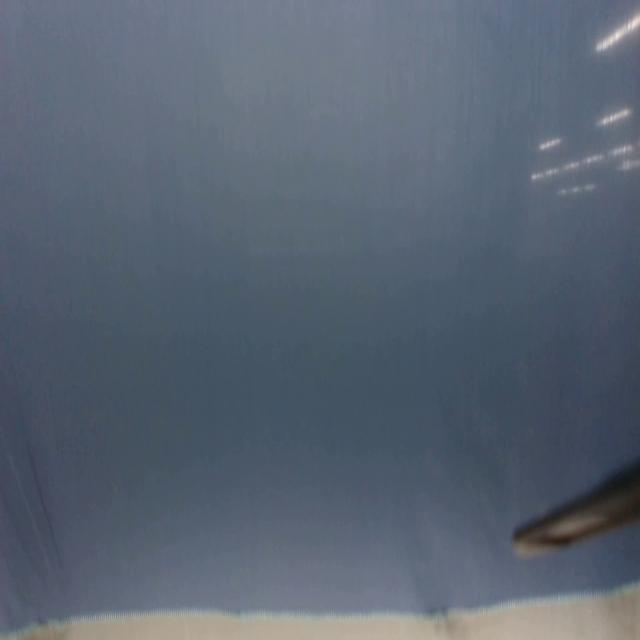crease: (24, 440, 63, 568)
